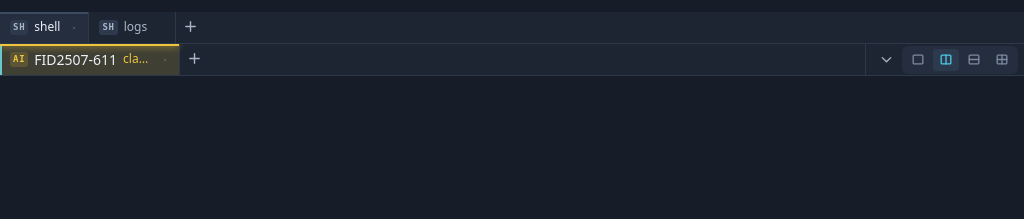
PaneTabBar › the overflow button closes the list it opened
Click the button named "All tabs" at x=886, y=60, box left=872, top=46, right=900, bottom=74
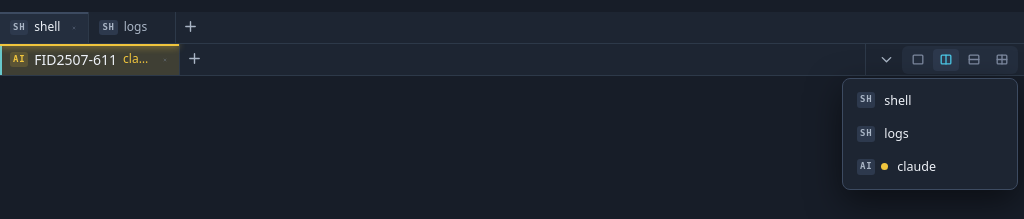
Result: the menu with class "ix-menu" is shown at left=842, top=78, right=1018, bottom=190
Click the button named "All tabs" at x=886, y=60, box left=872, top=46, right=900, bottom=74
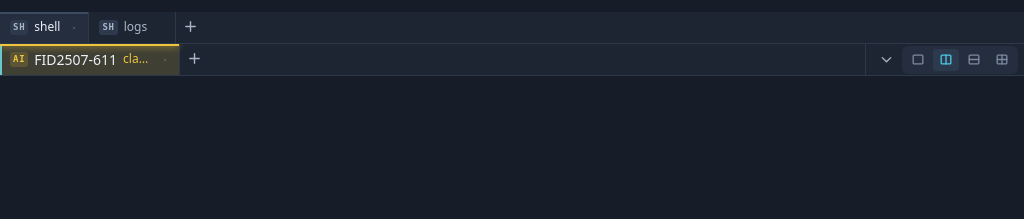
Result: the menu with class "ix-menu" is gone
